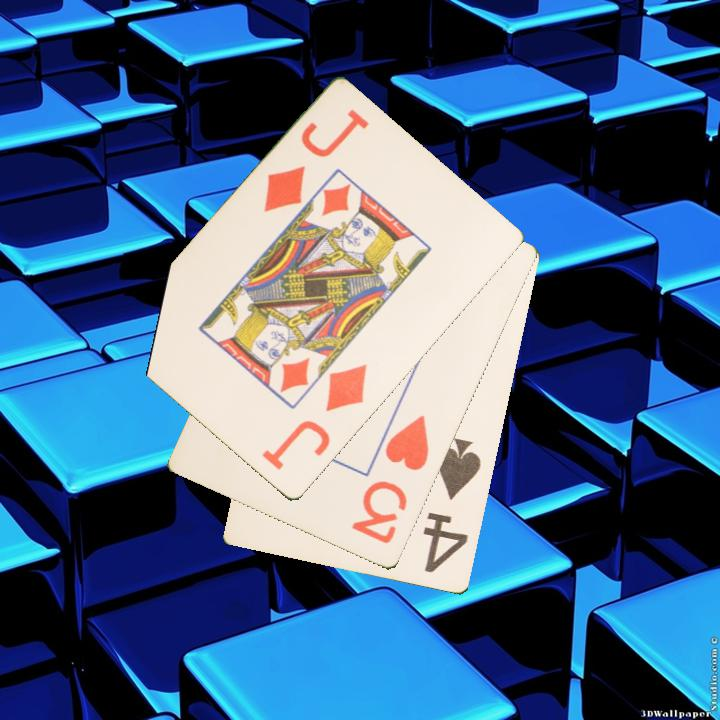3h: (348, 412, 432, 548)
4s: (419, 435, 485, 576)
Jd: (258, 360, 370, 474), (259, 105, 373, 217)
